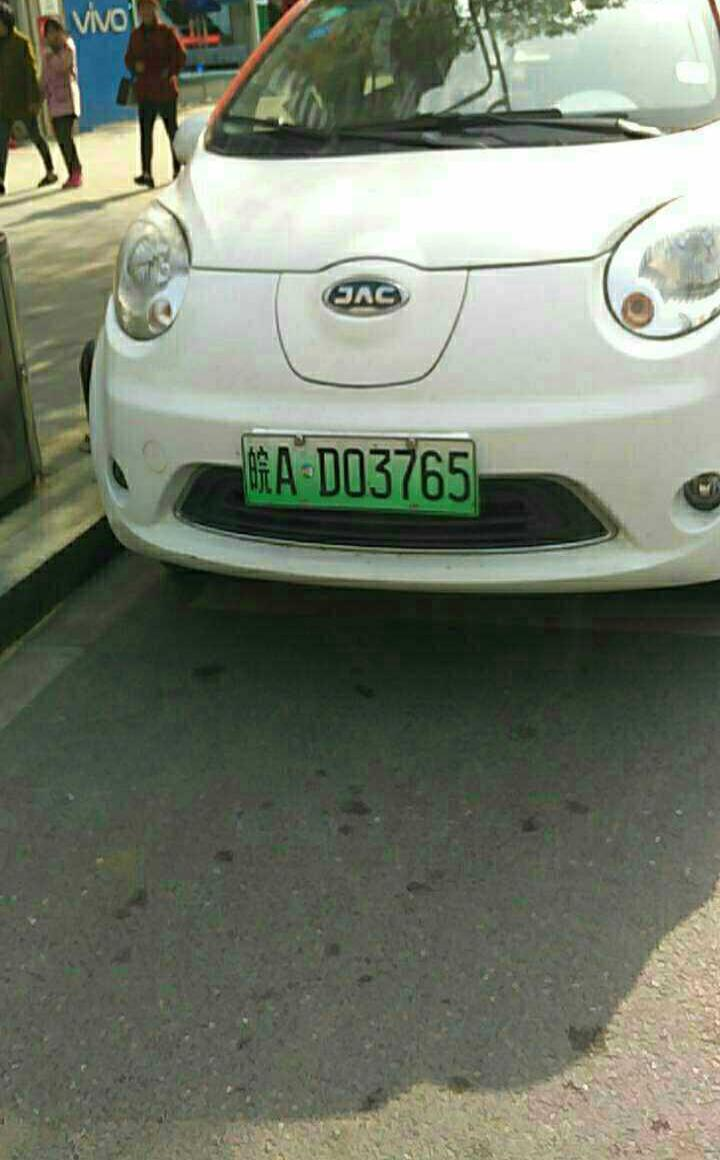car: (225, 429, 496, 525)
